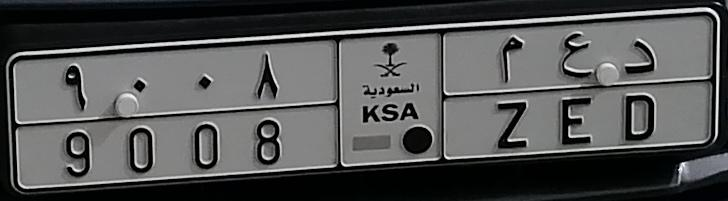0: (127, 75, 161, 174), (191, 73, 222, 172)
8: (253, 51, 284, 166)
9: (60, 63, 97, 177)
E: (556, 30, 596, 147)
Z: (494, 35, 533, 150)
